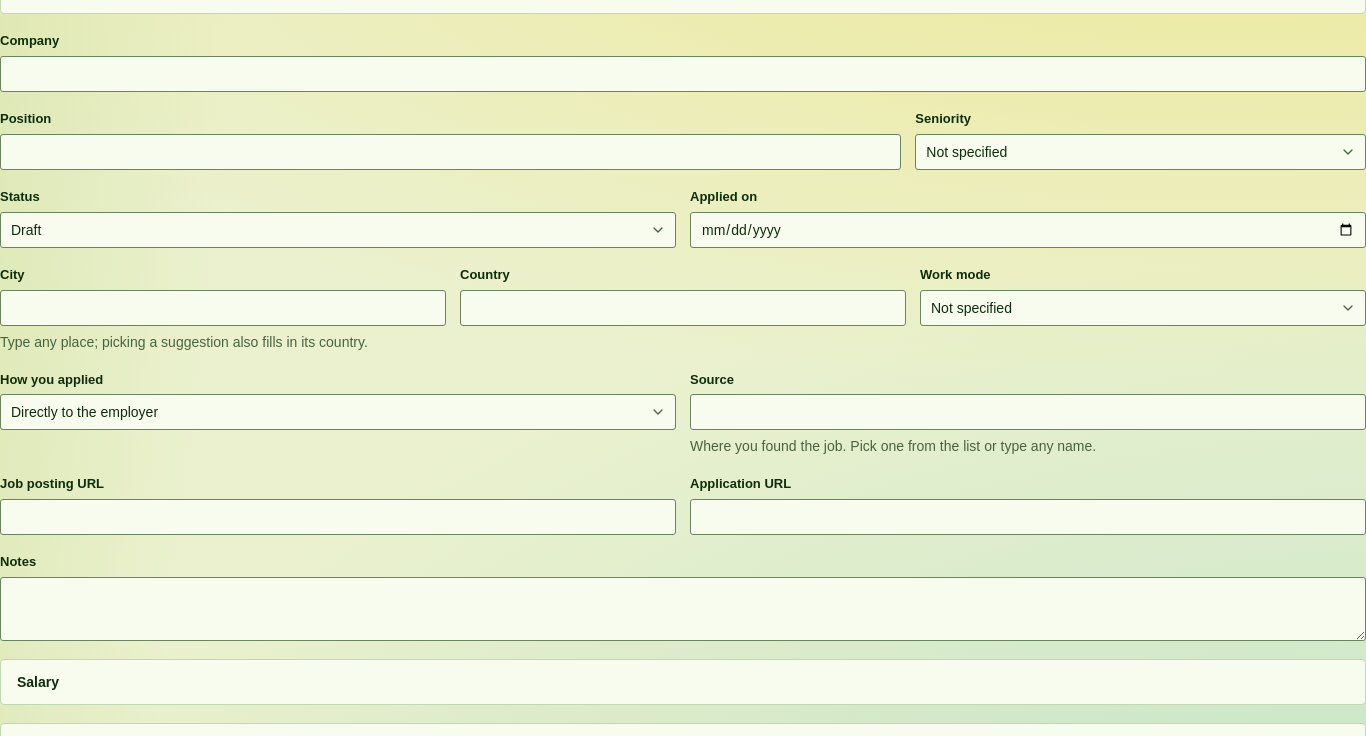
Scenario: ApplicationForm › says so when the server rejects a field the form does not show
This screenshot has width=1366, height=736.
Type "Acme" into the field labelled "Company" at (683, 74), box left=0, top=56, right=1365, bottom=92
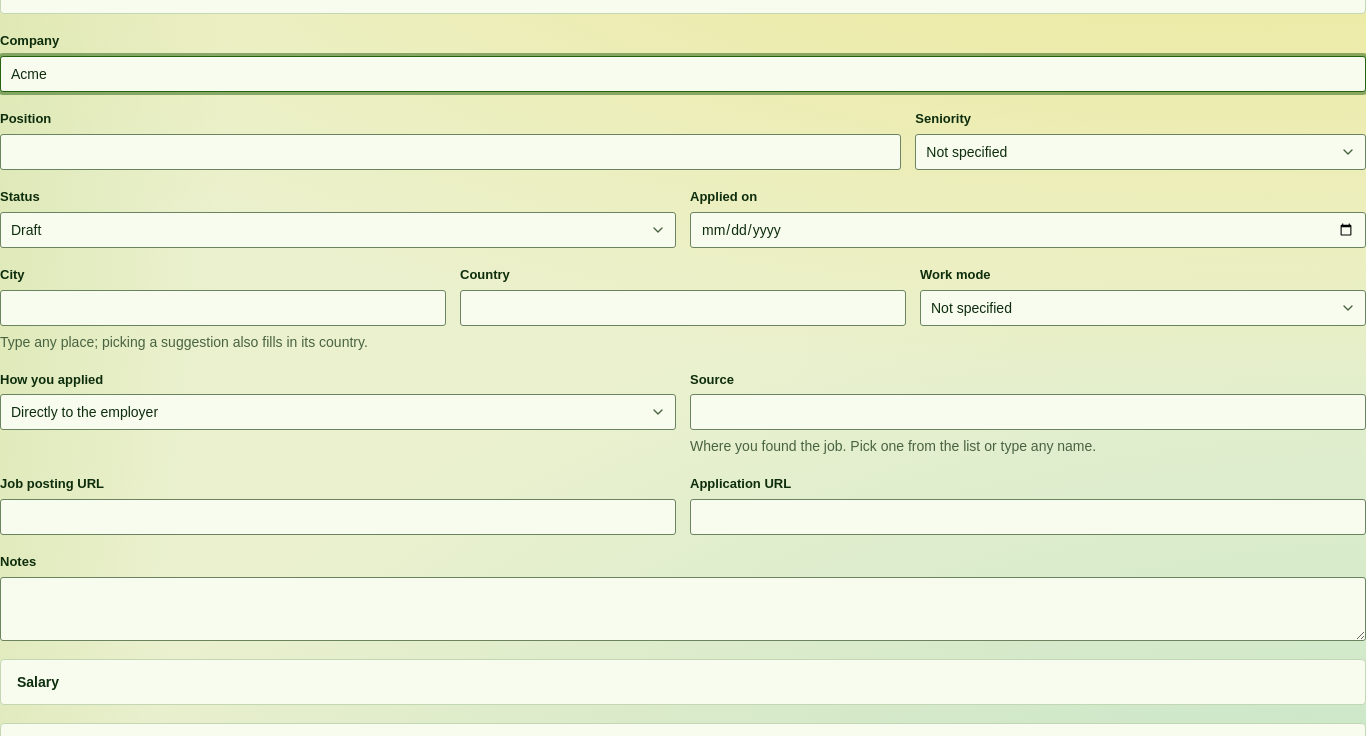
Type "Engineer" into the field labelled "Position" at (451, 152), box left=0, top=134, right=901, bottom=170
(page scrolled)
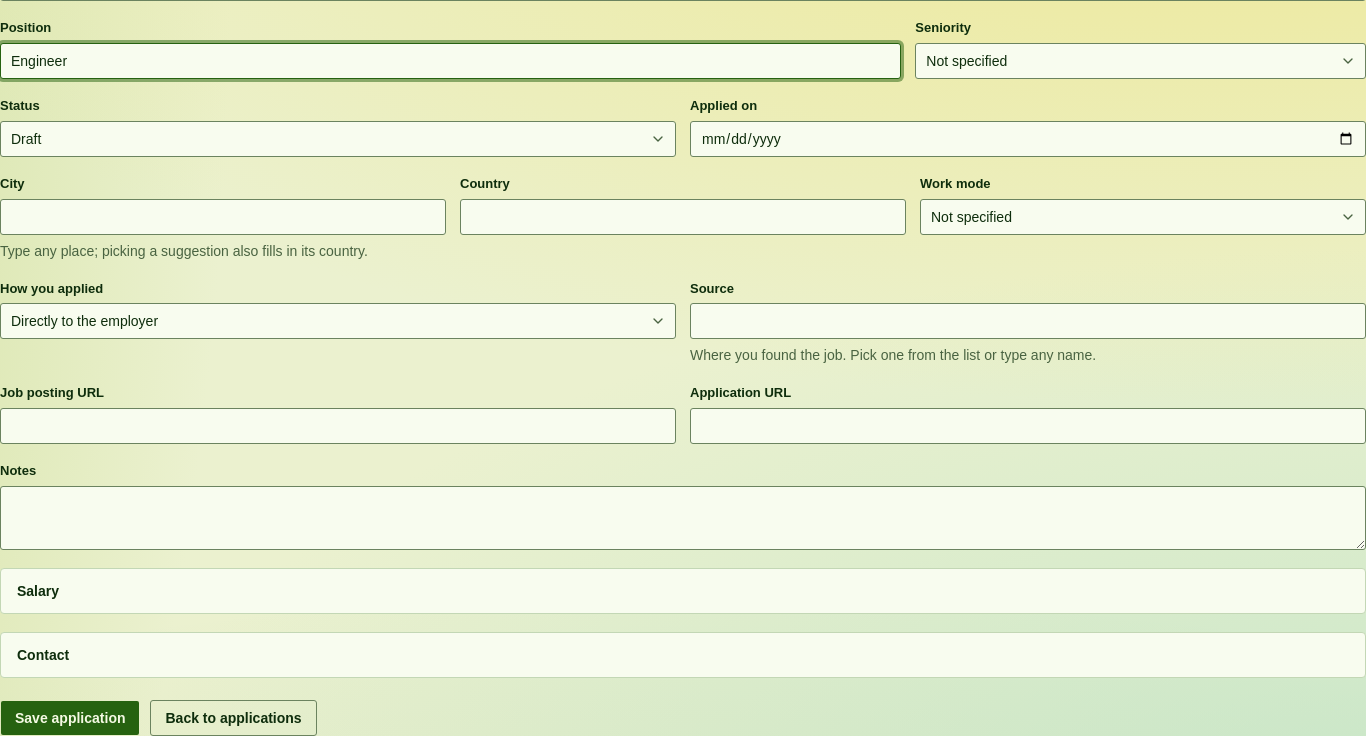
Click the button "Save application" at (70, 718), box left=0, top=700, right=140, bottom=735
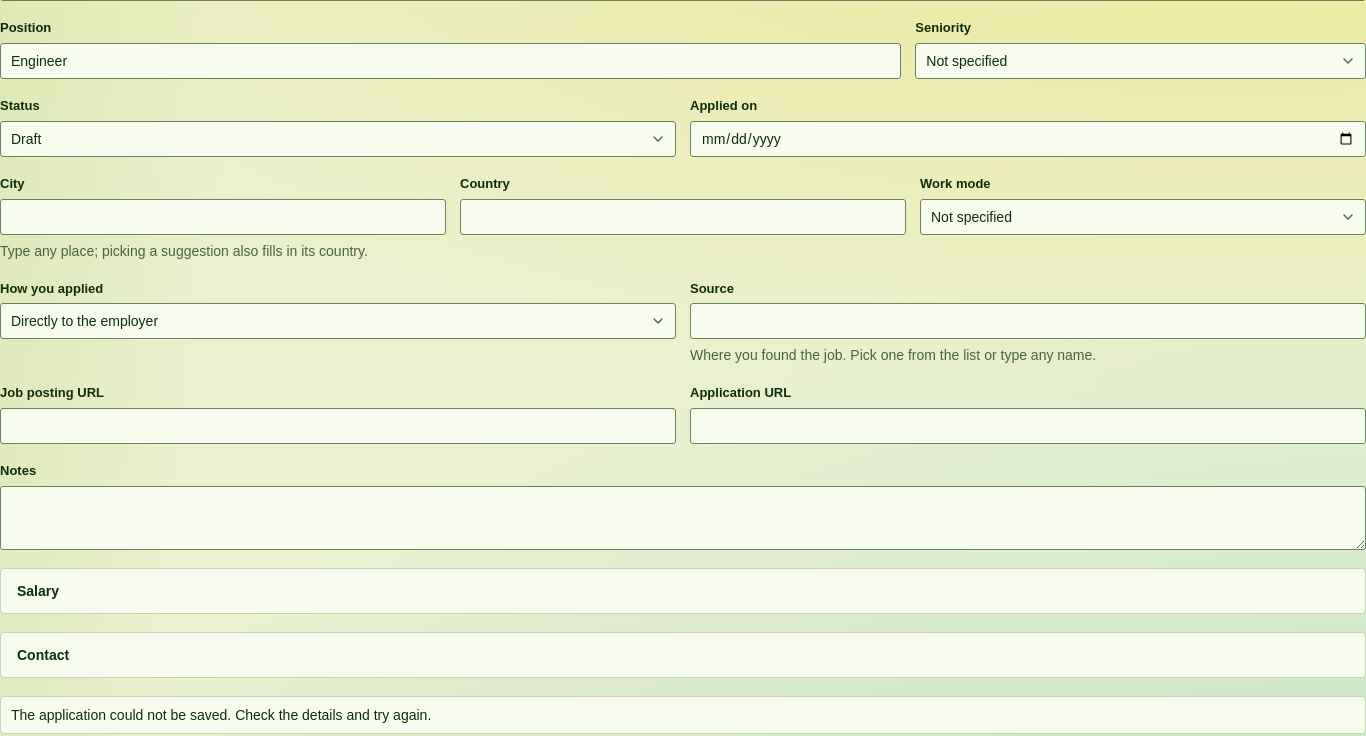
Now the message reads "The application could not be saved. Check the details and try again.", box left=11, top=707, right=431, bottom=723
